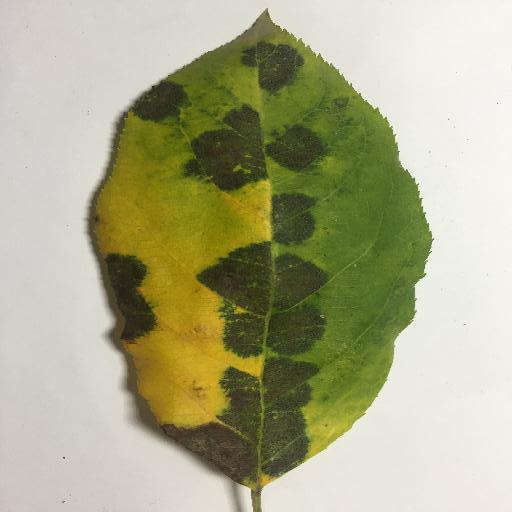Brown_Spot: (145, 416, 258, 491)
